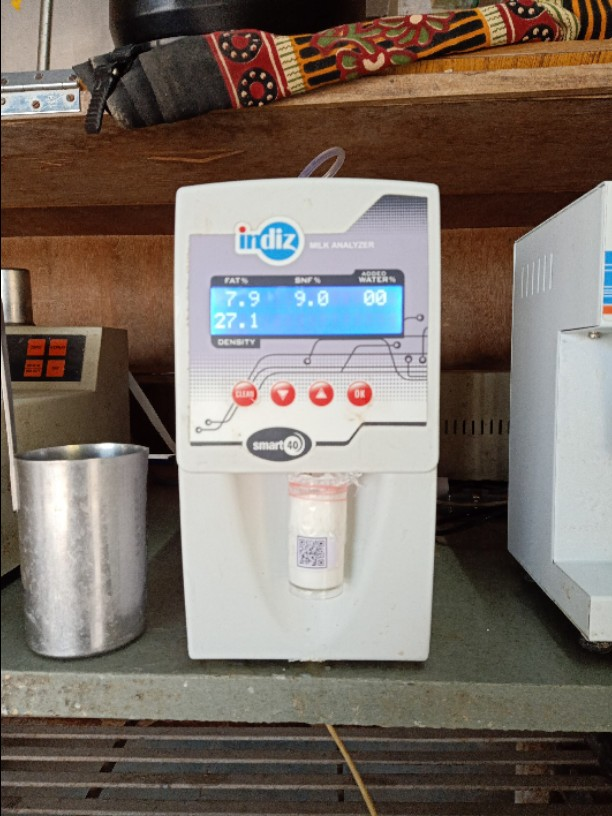lcd: (203, 273, 410, 341)
qr: (295, 534, 332, 571)
